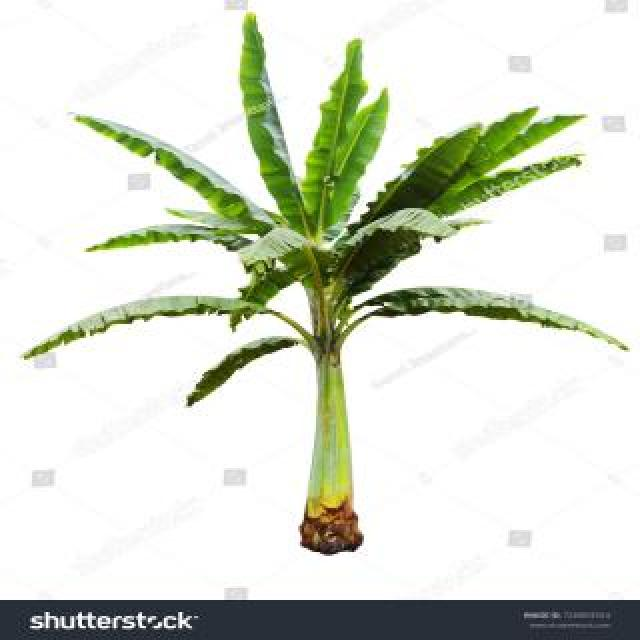Pisang: (36, 29, 627, 548)
